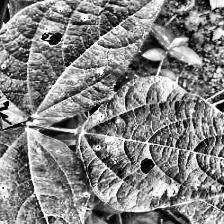Bean Rust: (0, 0, 175, 113), (85, 82, 224, 204), (0, 129, 82, 224)
